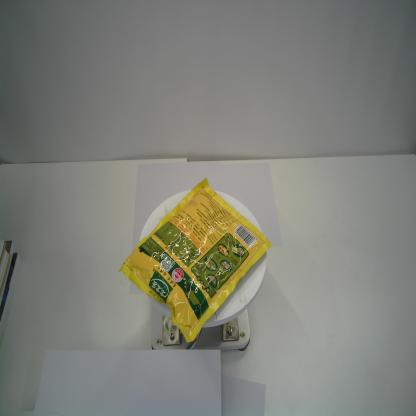Seasoner: (118, 176, 272, 342)
